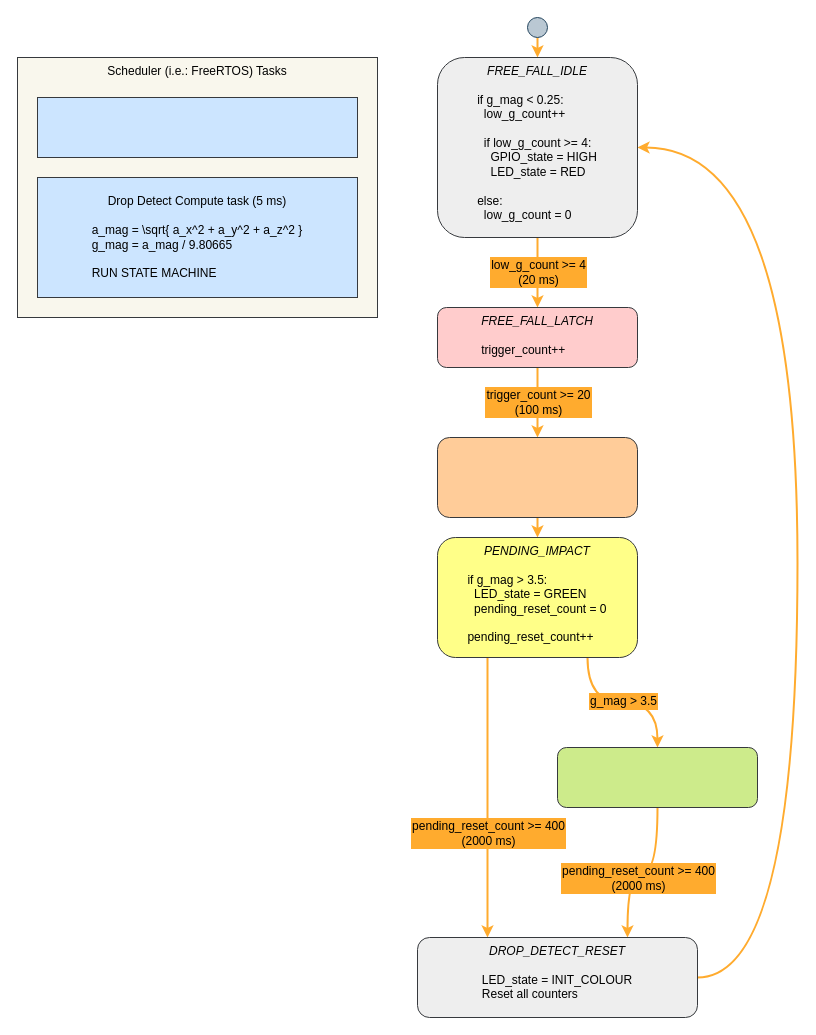
The diagram is 816 pixels wide and 1035 high, and some of its shapes have lost their labels. The shapes that lost their labels are listed below. From the top down, each one's centre as x and y in pixels, then its label:
the point at 197,127: IMU sensor task (1 ms)
the point at 537,477: FREE_FALL_DELATCH GPIO_state = LOW pending_reset_count = 0
the point at 657,777: IMPACT_LANDED pending_reset_count++
